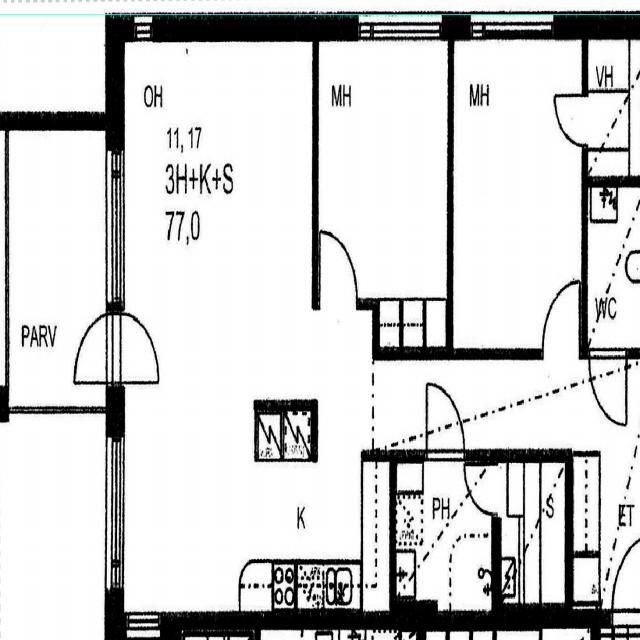door: (106, 313, 162, 381), (68, 313, 124, 381), (589, 348, 627, 429), (319, 230, 357, 310), (542, 281, 580, 360), (427, 382, 464, 461), (612, 535, 640, 629), (464, 464, 501, 514), (554, 96, 588, 144)
